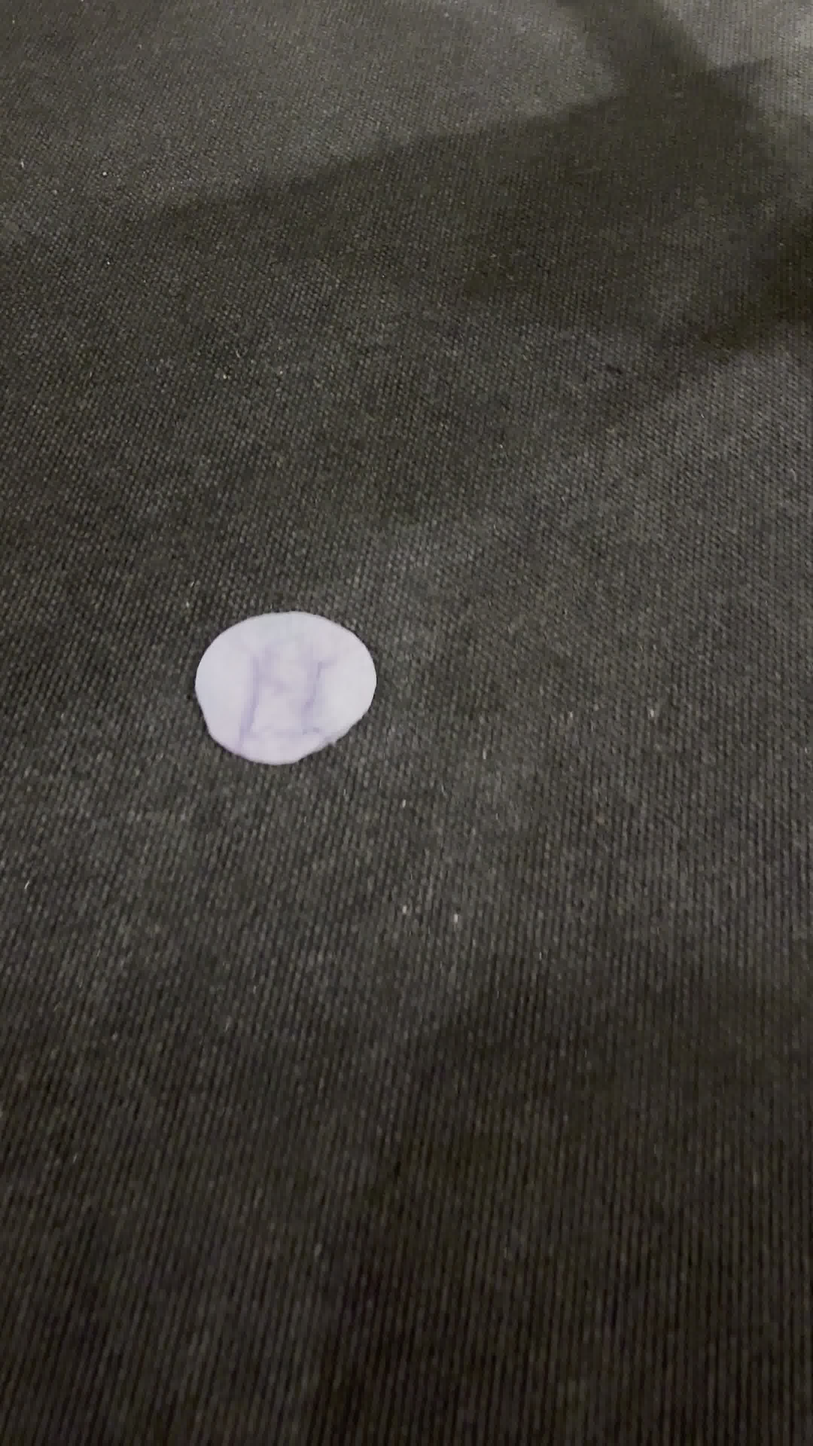Target: (191, 610, 382, 772)
